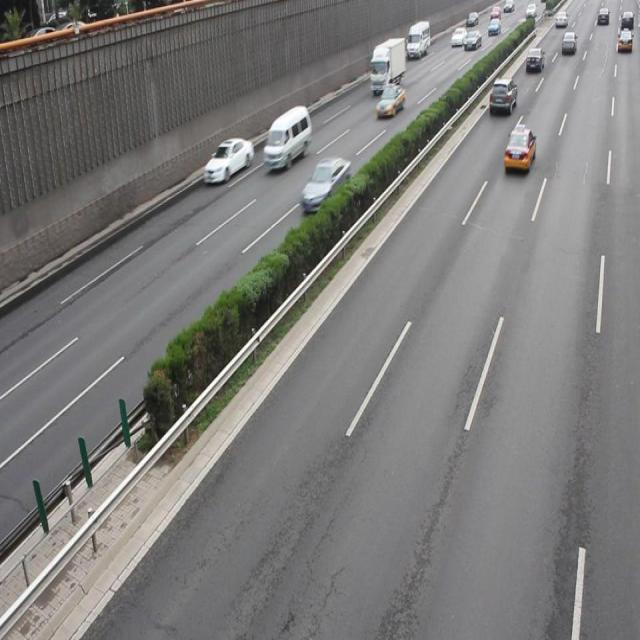car: (300, 155, 350, 212), (202, 135, 254, 185), (501, 124, 534, 172), (374, 83, 404, 118)
truck: (263, 105, 310, 171)
